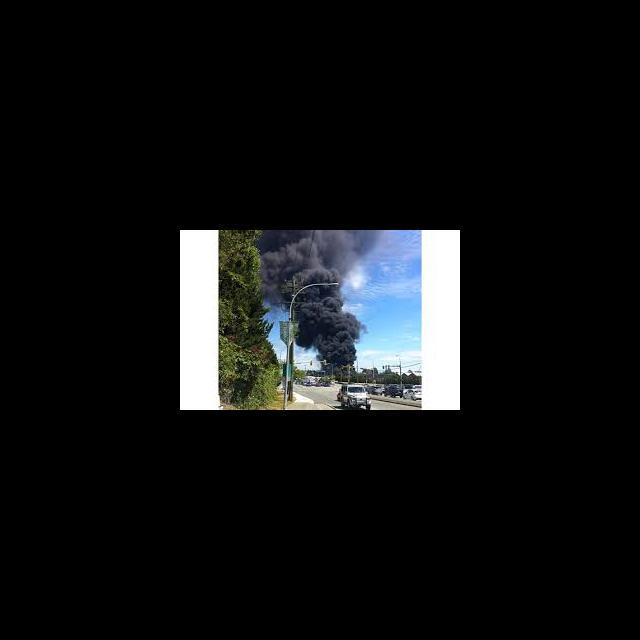Smoke: (252, 230, 380, 363)
